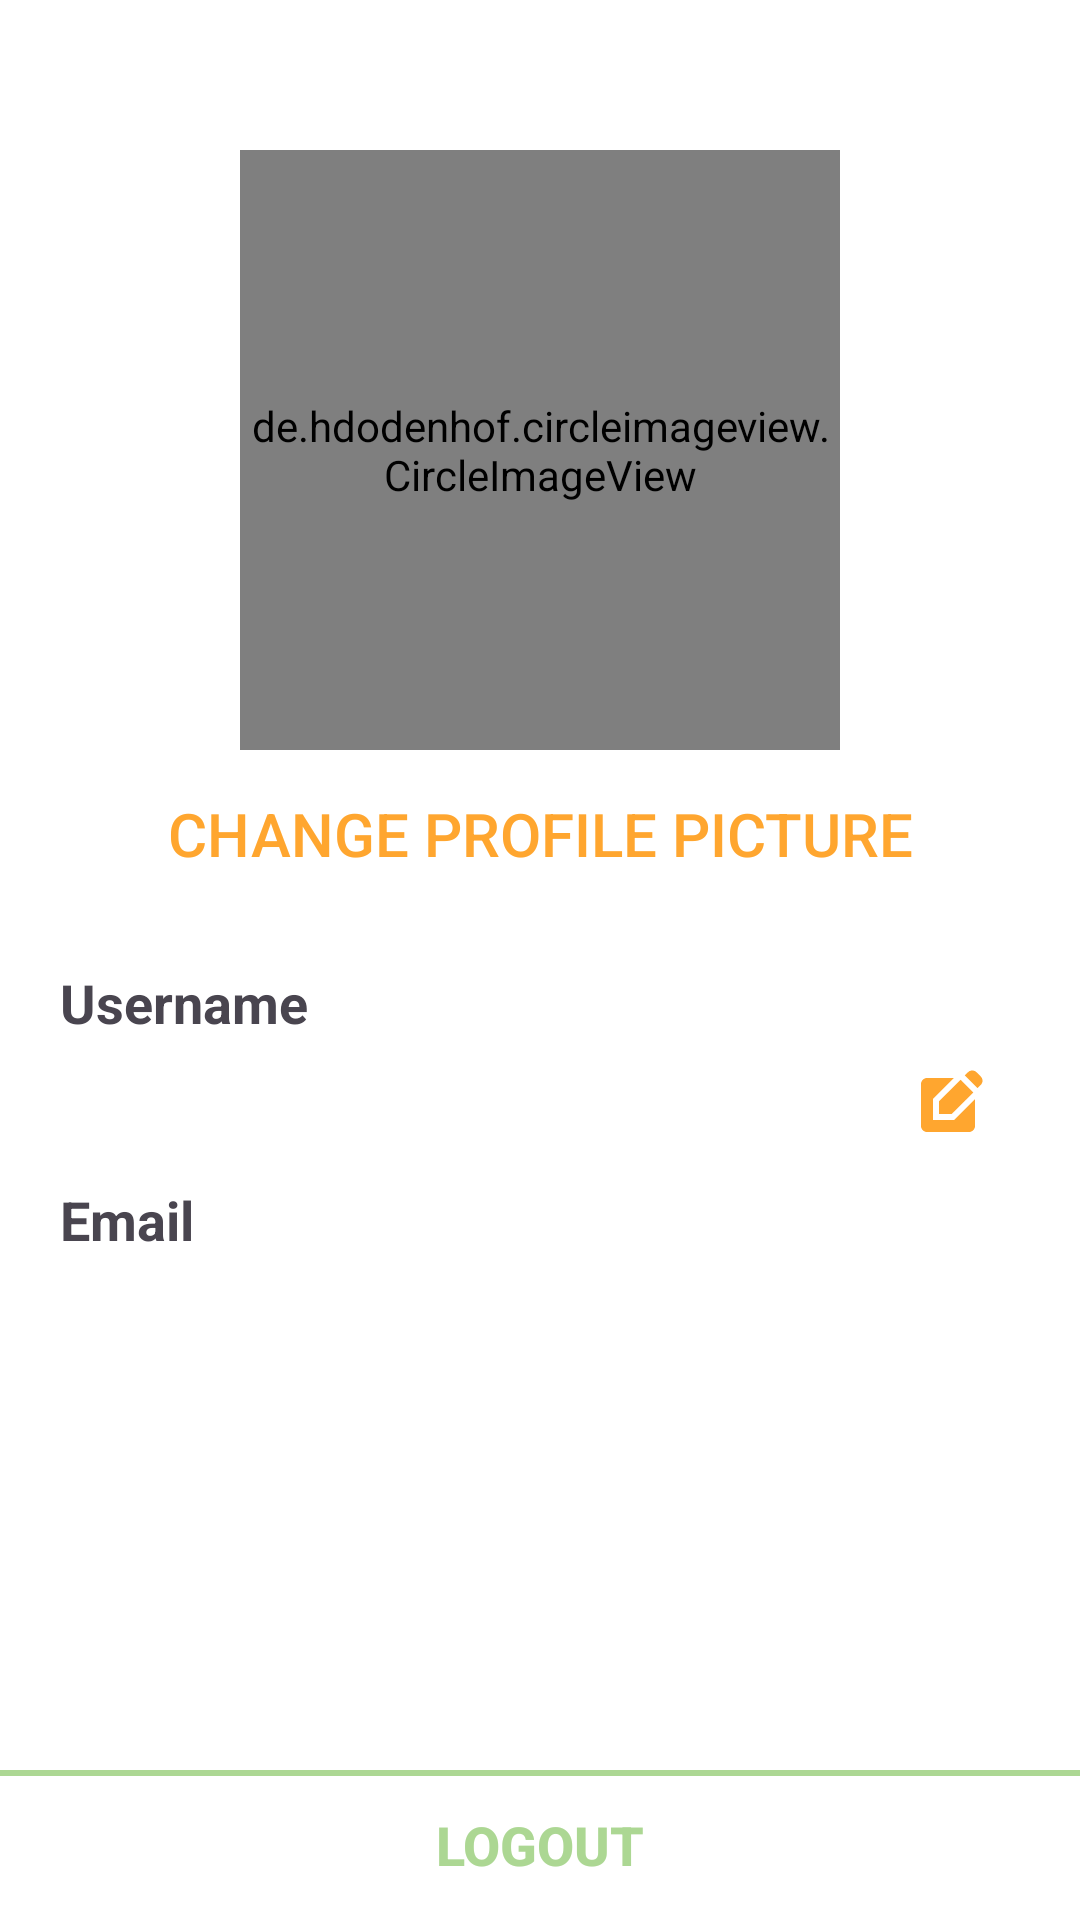

Icon bounding boxes for this 1080x1920 phone screenshot, format (x1, y1, x2, y2):
edit square: (921, 1070, 983, 1132)
